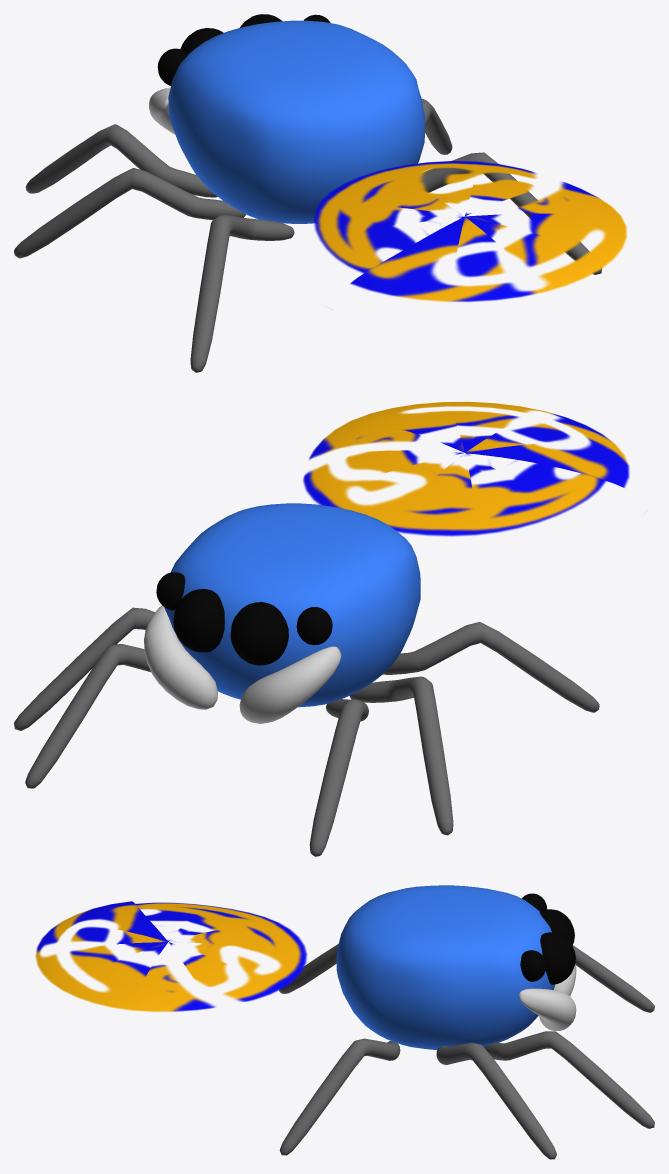
Rendered from Spider42.glb.
3 renders of one model, top to bottom at view 1: azimuth 30°, elevation 25°; view 2: azimuth 150°, elevation 25°; view 3: azimuth 270°, elevation 25°, orthographic. The views are drawn at different scales.
Visible parts, largest first — view 1: Head, Butt, Leg.003, Leg.005, Leg.001, Leg.004, Leg.002, Pincer.001, Eye.002, Eye; view 2: Head, Butt, Leg.005, Leg.003, Pincer.001, Pincer, Leg, Leg.001, Leg.002, Eye, Eye.001, Eye.002 (+1 smaller); view 3: Head, Butt, Leg, Leg.004, Leg.002, Pincer, Leg.001, Eye.001, Leg.005, Eye.003, Eye.
Boxes of the visible parts, left/top/right/bottom form: Head: left=168, top=20, right=424, bottom=223; Butt: left=313, top=161, right=626, bottom=301; Leg.003: left=14, top=168, right=245, bottom=258; Leg.005: left=190, top=215, right=294, bottom=372; Leg.001: left=25, top=124, right=217, bottom=197; Leg.004: left=419, top=152, right=601, bottom=274; Leg.002: left=422, top=98, right=452, bottom=154; Pincer.001: left=149, top=88, right=175, bottom=134; Eye.002: left=157, top=48, right=188, bottom=85; Eye: left=180, top=28, right=223, bottom=53; Head: left=164, top=503, right=420, bottom=707; Butt: left=303, top=401, right=629, bottom=536; Leg.005: left=383, top=622, right=599, bottom=712; Leg.003: left=349, top=676, right=453, bottom=835; Pincer.001: left=239, top=646, right=341, bottom=723; Pincer: left=144, top=605, right=217, bottom=709; Leg: left=25, top=644, right=150, bottom=788; Leg.001: left=309, top=699, right=368, bottom=856; Leg.002: left=14, top=607, right=154, bottom=730; Eye: left=230, top=602, right=288, bottom=665; Eye.001: left=173, top=589, right=224, bottom=652; Eye.002: left=296, top=607, right=332, bottom=645; Head: left=336, top=885, right=555, bottom=1049; Butt: left=35, top=901, right=307, bottom=1011; Leg: left=484, top=1031, right=654, bottom=1128; Leg.004: left=279, top=1038, right=400, bottom=1155; Leg.002: left=436, top=1042, right=556, bottom=1159; Pincer: left=518, top=988, right=576, bottom=1030; Leg.001: left=572, top=945, right=654, bottom=1012; Eye.001: left=540, top=932, right=575, bottom=984; Leg.005: left=279, top=944, right=338, bottom=993; Eye.003: left=520, top=950, right=546, bottom=981; Eye: left=539, top=909, right=574, bottom=945.
Bounding box in the file's own units: 0.3311 × 0.1445 × 0.5081.
Materials: 5 (1 with a texture image).
